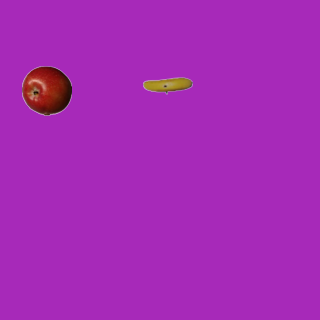Apple Braeburn: (21, 65, 71, 115)
Banana: (142, 60, 192, 110)
